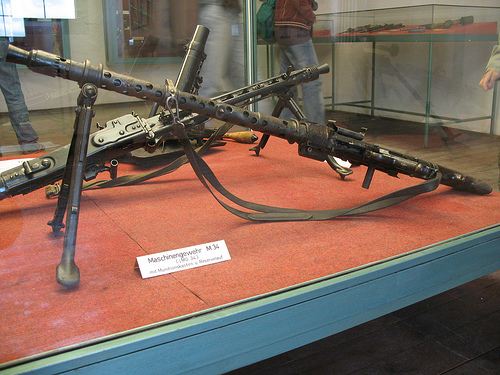rifle: (7, 36, 488, 332)
